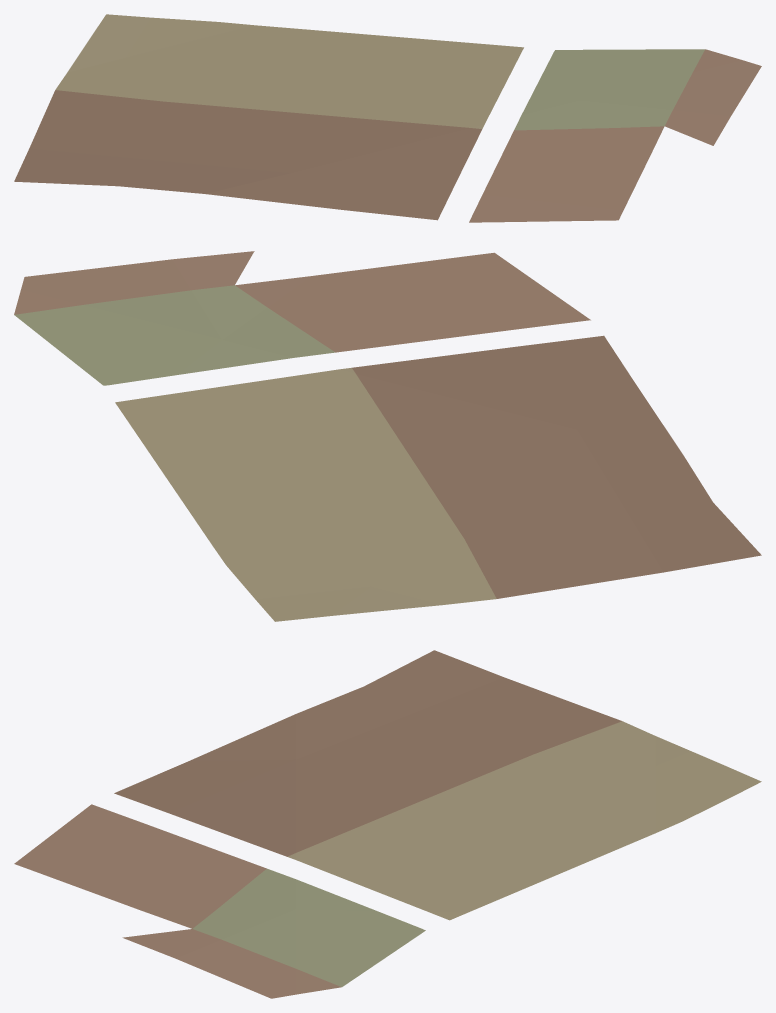
The model's file is farm_-43_-40_soil.glb.
3 views of the same model, one above another, from view 1: azimuth 30°, elevation 25°; view 2: azimuth 150°, elevation 25°; view 3: azimuth 270°, elevation 25° (orthographic). The views are drawn at different scales.
Parts seen in each view (by area): view 1: geometry_0; view 2: geometry_0; view 3: geometry_0.
Boxes of the visible parts, <box> form: geometry_0: <box>14,14,761,222</box>; geometry_0: <box>14,251,761,621</box>; geometry_0: <box>14,650,761,998</box>.
Bounding box in the file's own units: 187 × 2.7 × 166.
